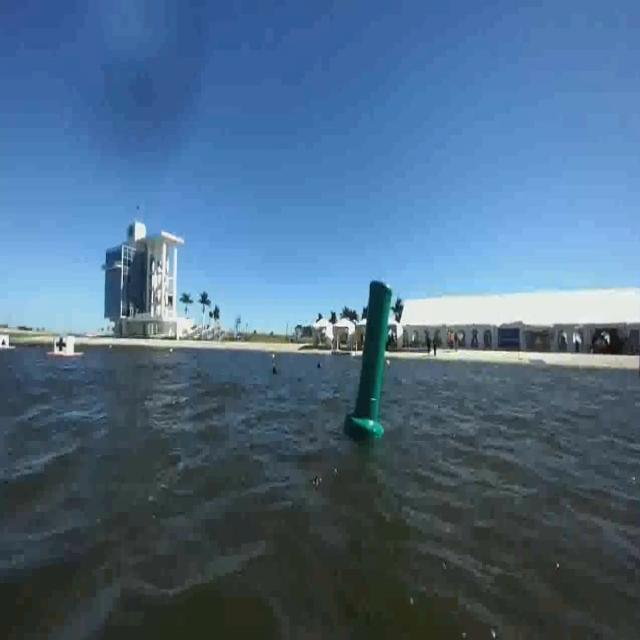green-column-buoy: (348, 278, 392, 438)
